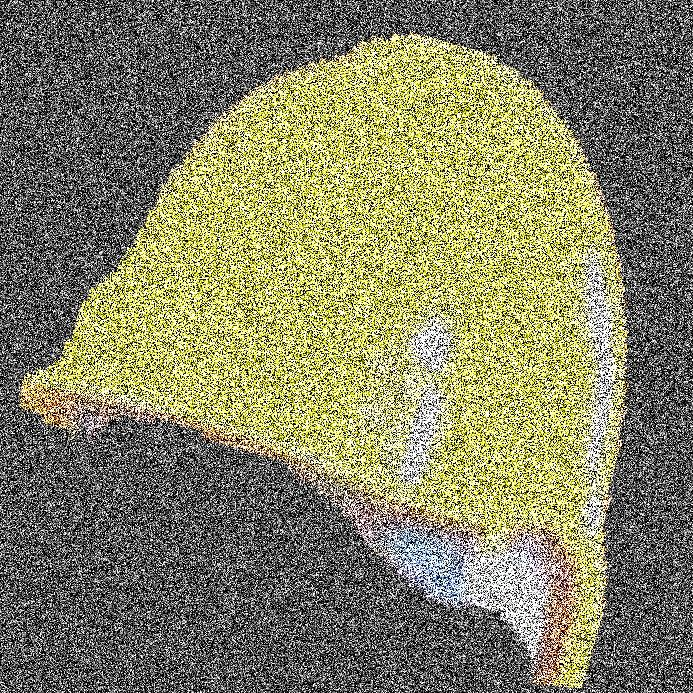Capacete: (186, 0, 616, 692)
